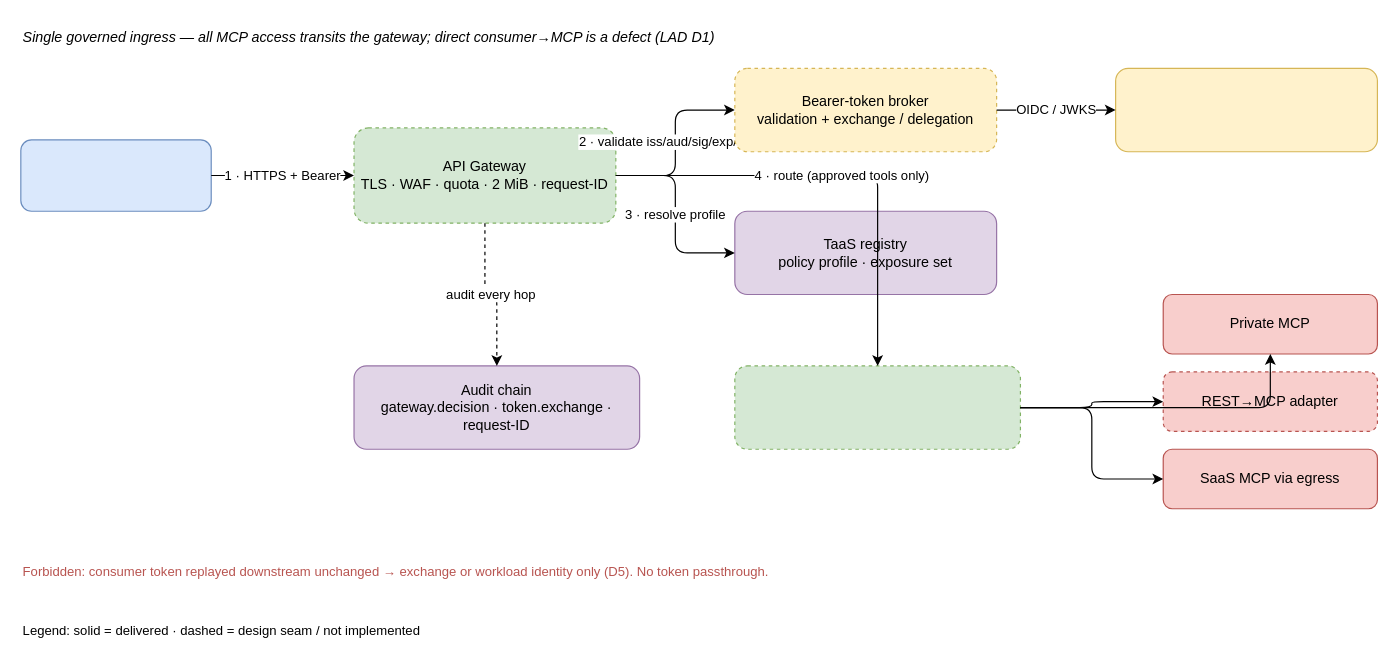
This 1398x671 diagram has some shape labels left out. The centre of each missing label's shape, as x and y in pixels:
"Consumer (app / agent / M2M)" goes at (115,175).
"IdP Entra ID / Keycloak / cloud IAM" goes at (1245,109).
"MCP proxy filtered tools/list · tools/call gated (Phase C)" goes at (877,407).
